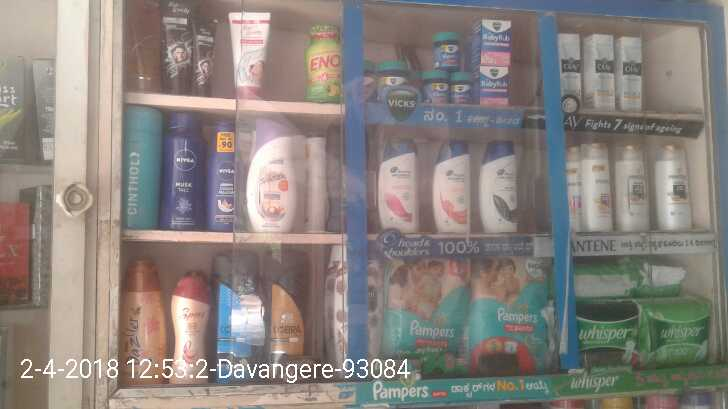vicks: (367, 65, 407, 117), (474, 19, 514, 64), (474, 64, 511, 110), (434, 31, 463, 73), (421, 71, 452, 104), (452, 71, 470, 105)
